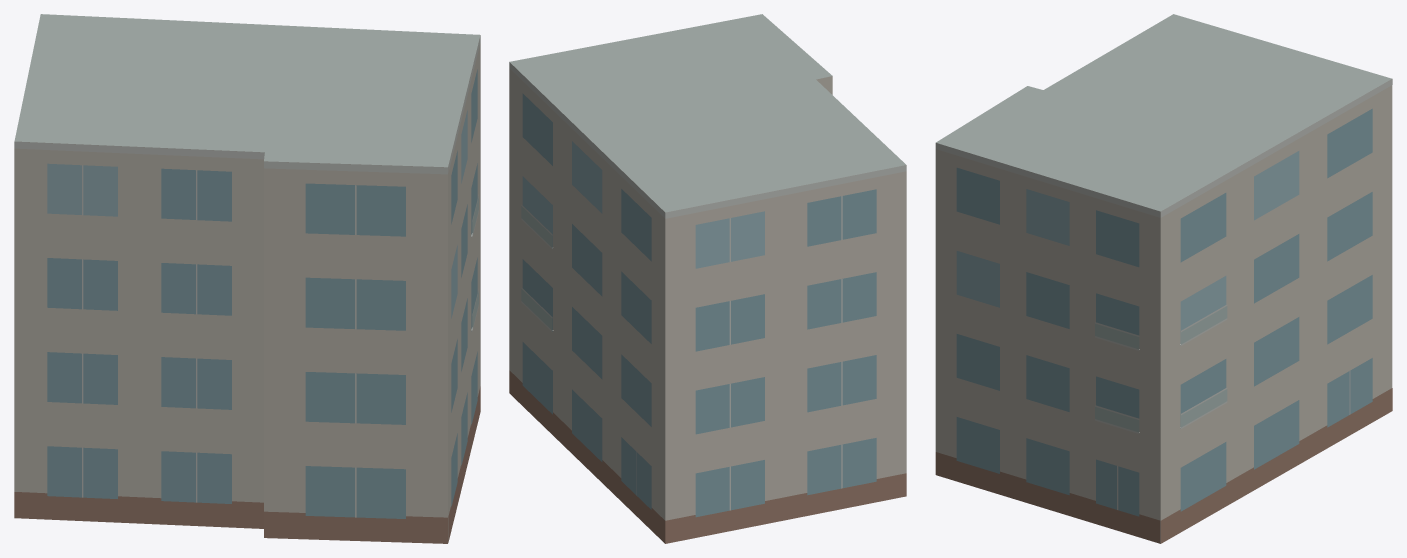
File: survey-upis-33010664.glb
The picture shows the model from 3 angles, left to right: view 1: azimuth 30°, elevation 25°; view 2: azimuth 150°, elevation 25°; view 3: azimuth 270°, elevation 25°; orthographic projection. The views are drawn at different scales.
Parts seen in each view (by area): view 1: survey-upis-33010664.tmp; view 2: survey-upis-33010664.tmp; view 3: survey-upis-33010664.tmp.
Boxes of the visible parts, x1=… form: survey-upis-33010664.tmp: x1=14, y1=14, x2=480, y2=543; survey-upis-33010664.tmp: x1=509, y1=14, x2=906, y2=543; survey-upis-33010664.tmp: x1=935, y1=14, x2=1392, y2=543.
Size of the model in its own units: 16.42 by 12.87 by 16.04.
